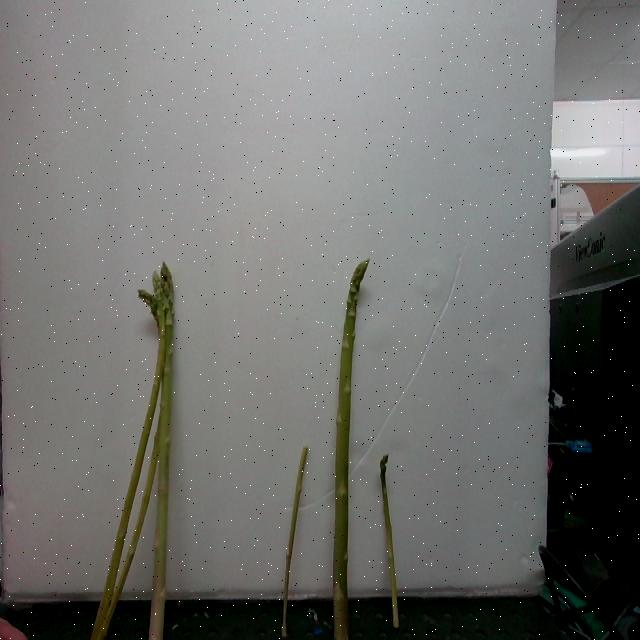aspargus: (333, 263, 370, 640), (281, 449, 311, 639), (377, 451, 401, 629)
